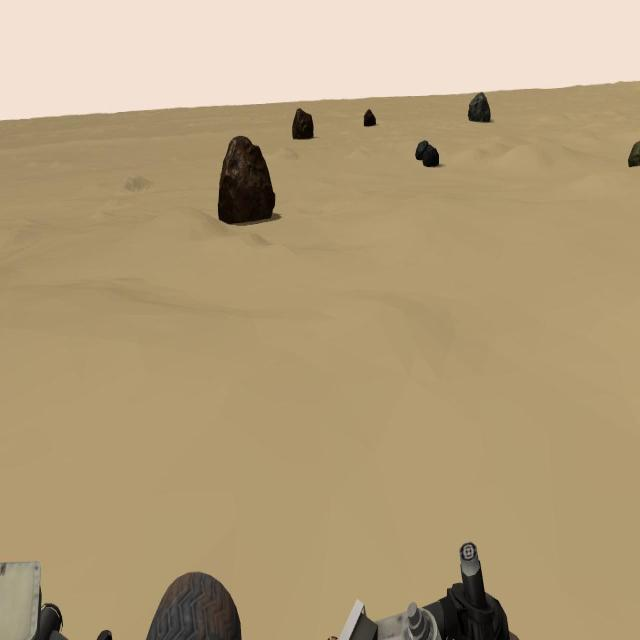rock: (219, 136, 275, 221), (468, 93, 491, 123), (292, 107, 314, 138), (422, 144, 440, 166), (628, 141, 640, 167), (415, 141, 429, 159), (364, 107, 376, 126)
